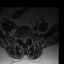CCS_normal: (23, 36, 25, 44)
LFS_stenosis: (27, 35, 28, 40)
LLS_normal: (25, 36, 27, 43)
RFS_stenosis: (19, 36, 21, 40)
RLS_normal: (21, 36, 23, 43)
